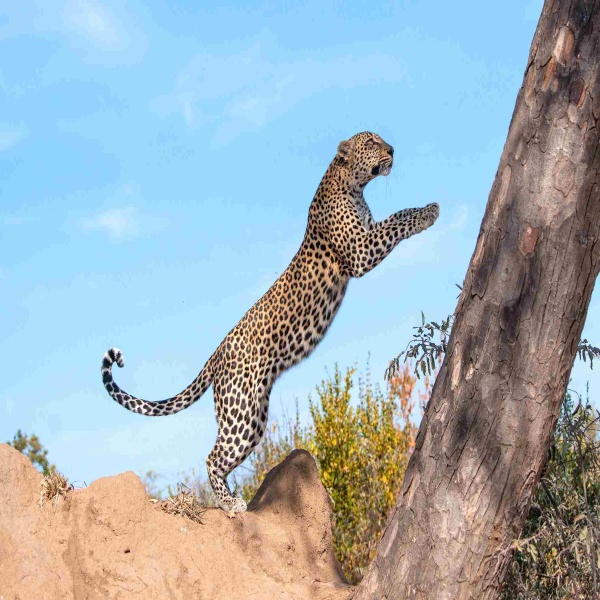Leopard: (96, 128, 444, 522)
